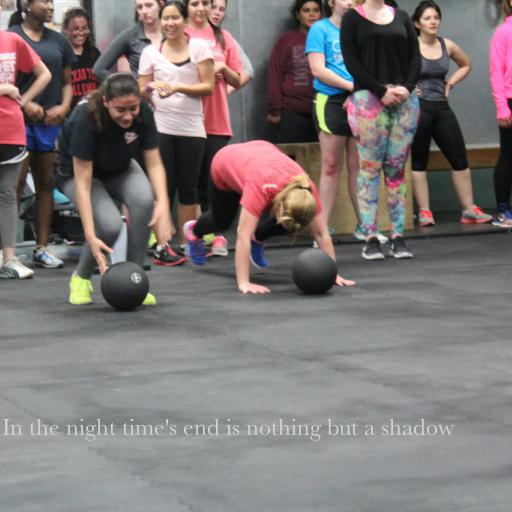Baskerville: (2, 418, 454, 441)
